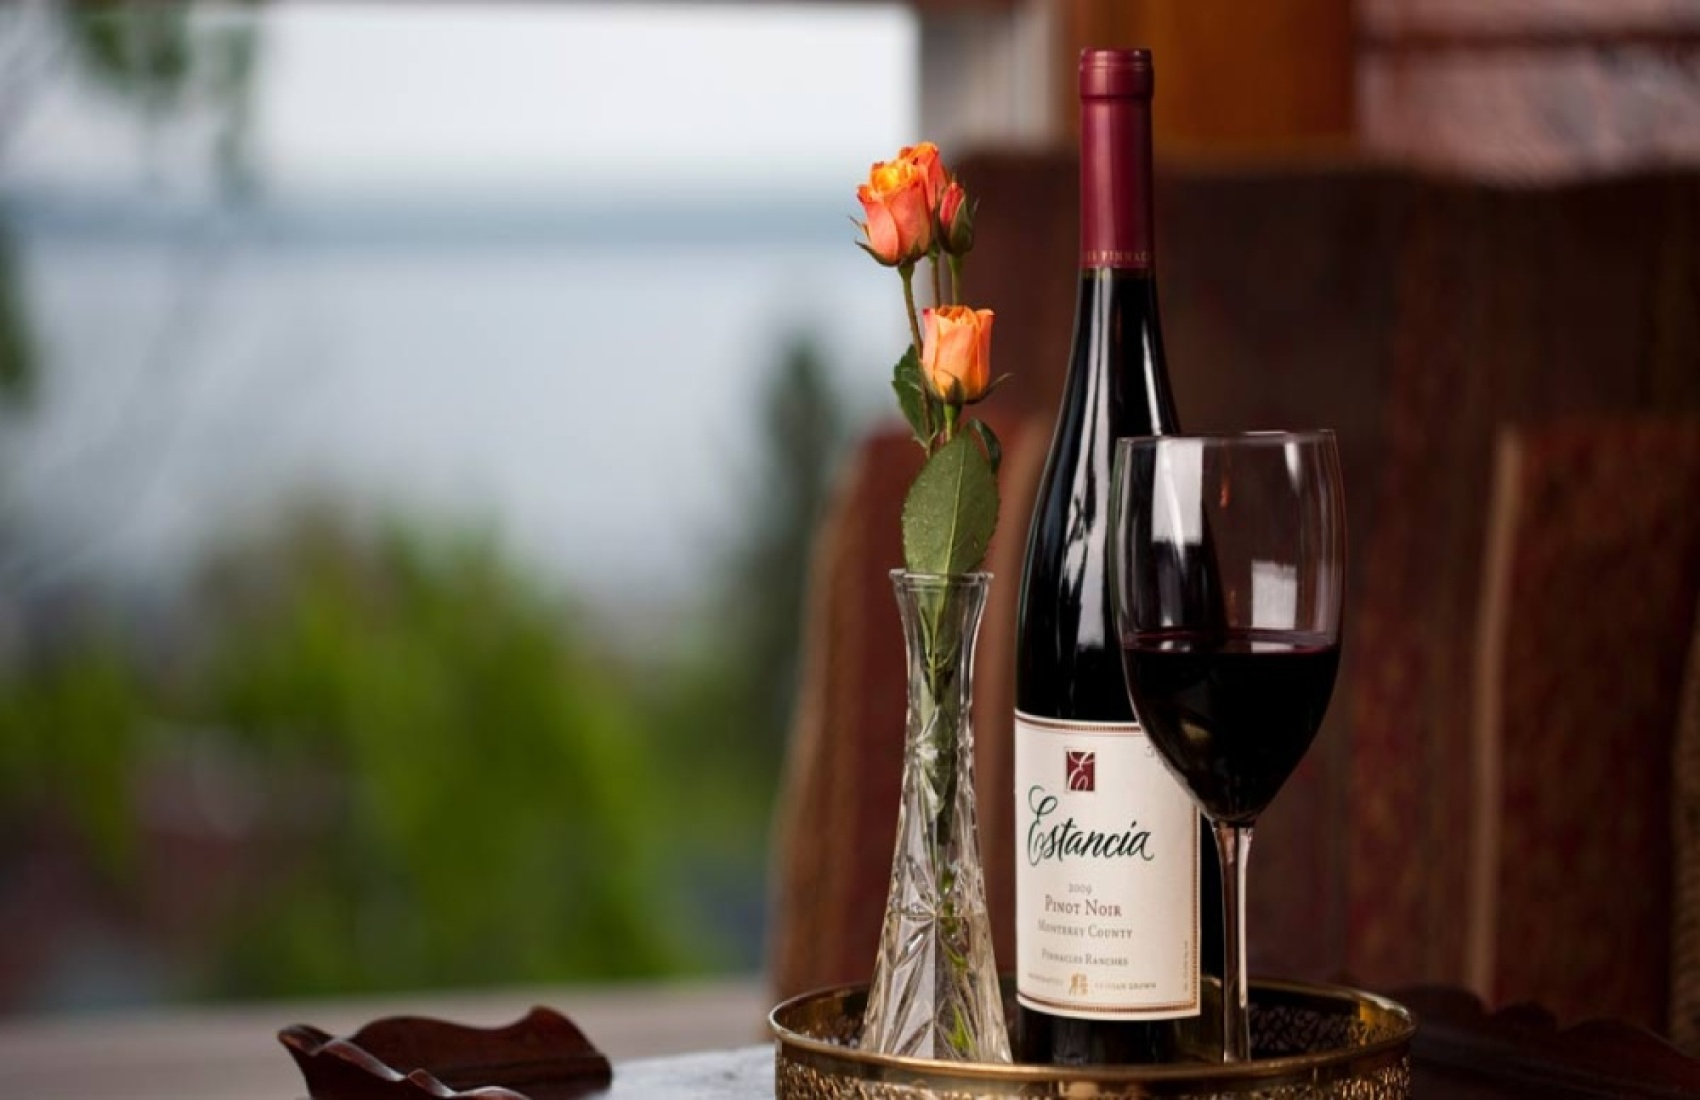wine: (1009, 47, 1207, 1047)
